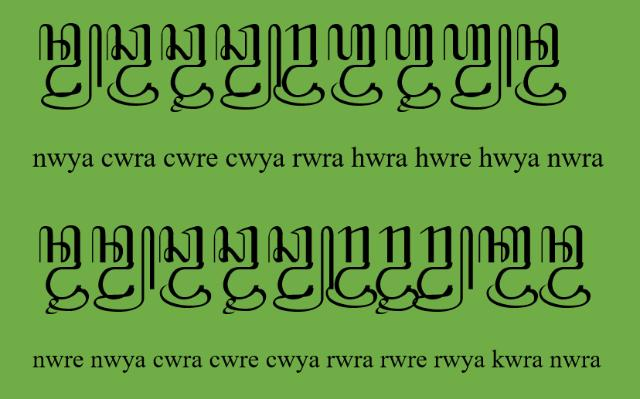cwr: (158, 225, 212, 309), (106, 24, 160, 106)
cwre: (162, 22, 214, 114), (214, 225, 266, 315)
cwy: (214, 24, 282, 110), (268, 226, 334, 312)
hwr: (327, 24, 383, 106)
hwre: (385, 22, 441, 112)
hwy: (443, 24, 513, 110)
kwr: (478, 226, 538, 310)
nwr: (515, 22, 567, 106), (539, 225, 591, 309)
nwre: (38, 226, 90, 316)
nwy: (39, 23, 103, 111), (91, 226, 155, 314)
rwr: (273, 24, 325, 106), (327, 226, 378, 308)
rwre: (376, 226, 418, 314)
rwy: (412, 226, 474, 312)
